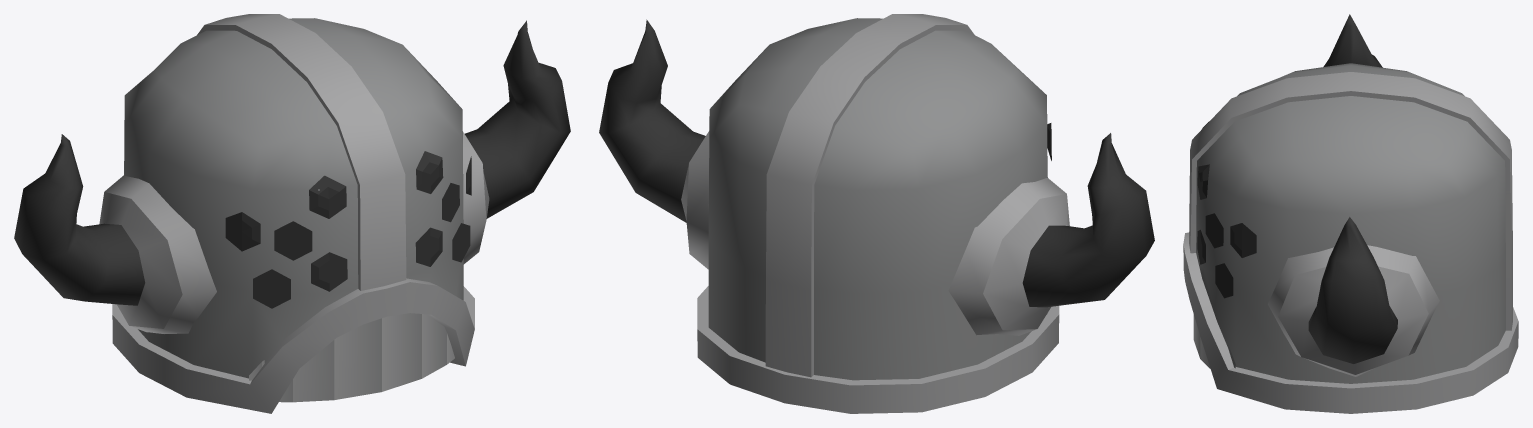
Rendered from Headgear_7.fbx.
3 renders of one model, left to right at view 1: azimuth 30°, elevation 25°; view 2: azimuth 150°, elevation 25°; view 3: azimuth 270°, elevation 25°, orthographic. The views are drawn at different scales.
Parts seen in each view (by area): view 1: Headgear_7; view 2: Headgear_7; view 3: Headgear_7.
Boxes of the visible parts, x1,y1,x2,y2 form: Headgear_7: [14, 14, 570, 413]; Headgear_7: [599, 14, 1154, 413]; Headgear_7: [1183, 14, 1518, 413].
Size of the model in its own units: 108 by 56.69 by 64.68.
